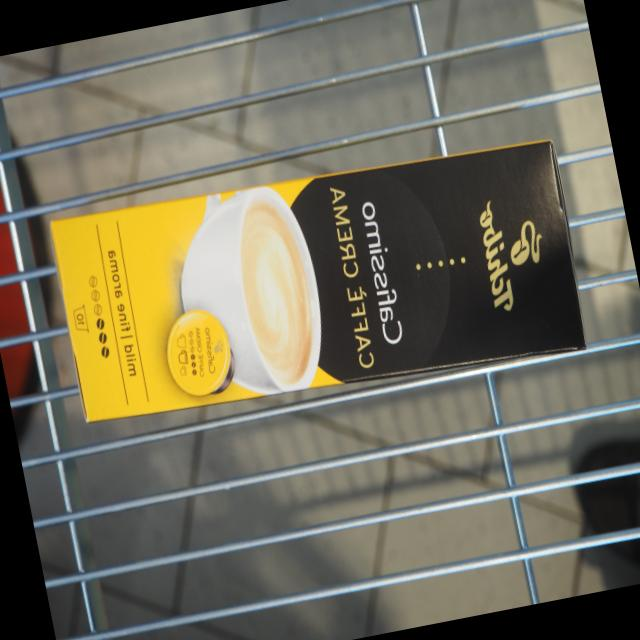Simo CCMild bigpack: (45, 133, 594, 431)
